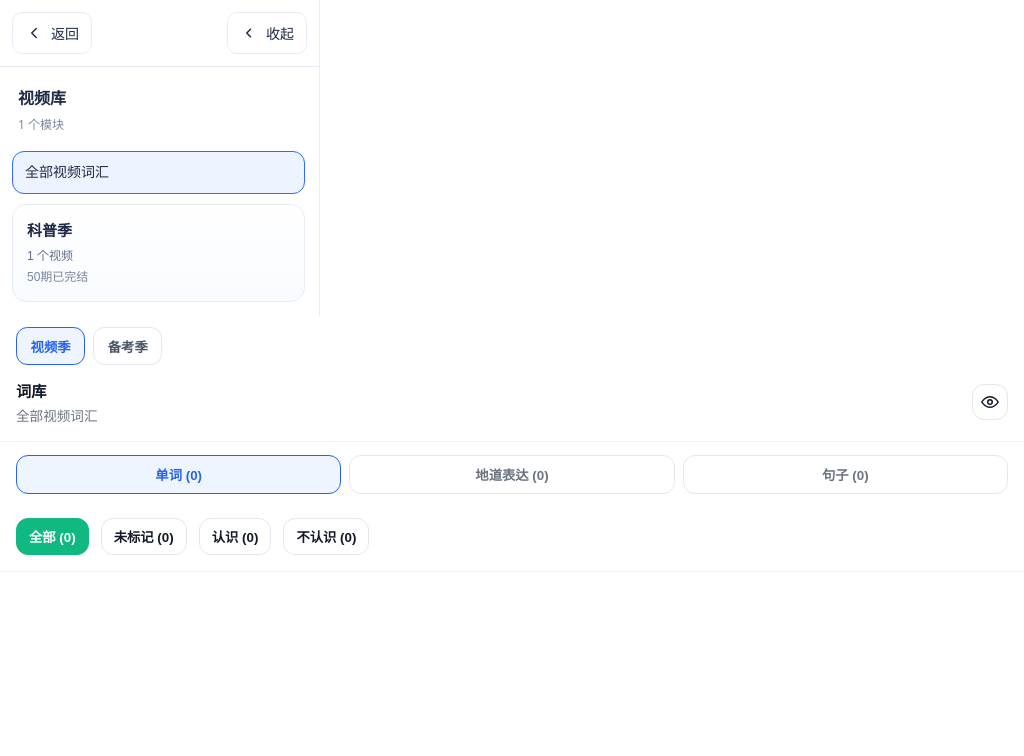
Scenario: LexiconPage sources › keeps matching video favorites independent from occurrences and can unfavorite them
The image size is (1024, 756).
Click the text "科普季".
click(50, 229)  # box [27,219,72,240]
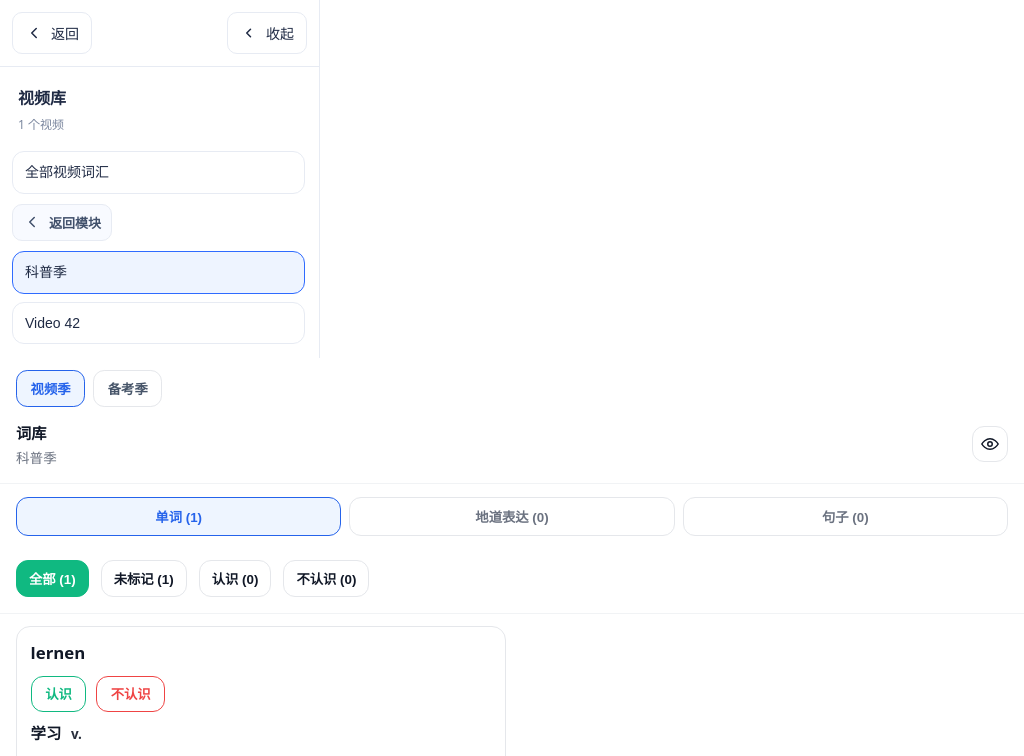
Click the list item "Video 42".
click(53, 323)  # box [12,302,305,344]
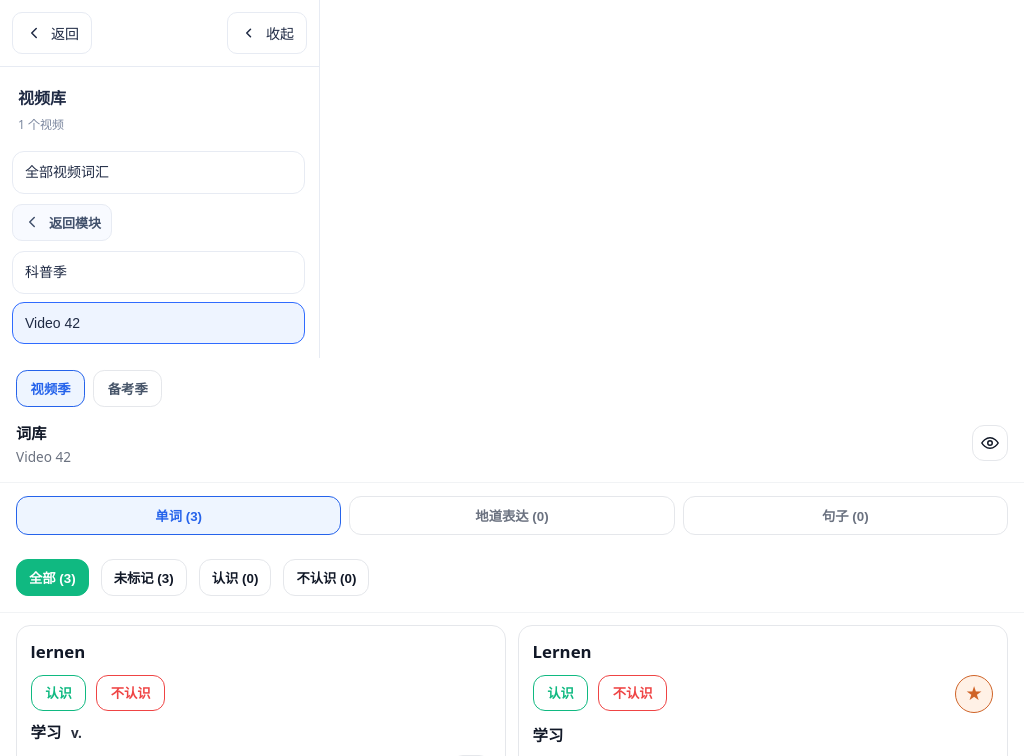
Check: the text "lernen" is shown, box [31,640,85,662]
Check: the number of buttons named "取消收藏" is 2
Check: the button named "取消收藏 Lernen" is shown
Click the button named "取消收藏 Lernen".
click(974, 694)  # box [955,674,993,713]
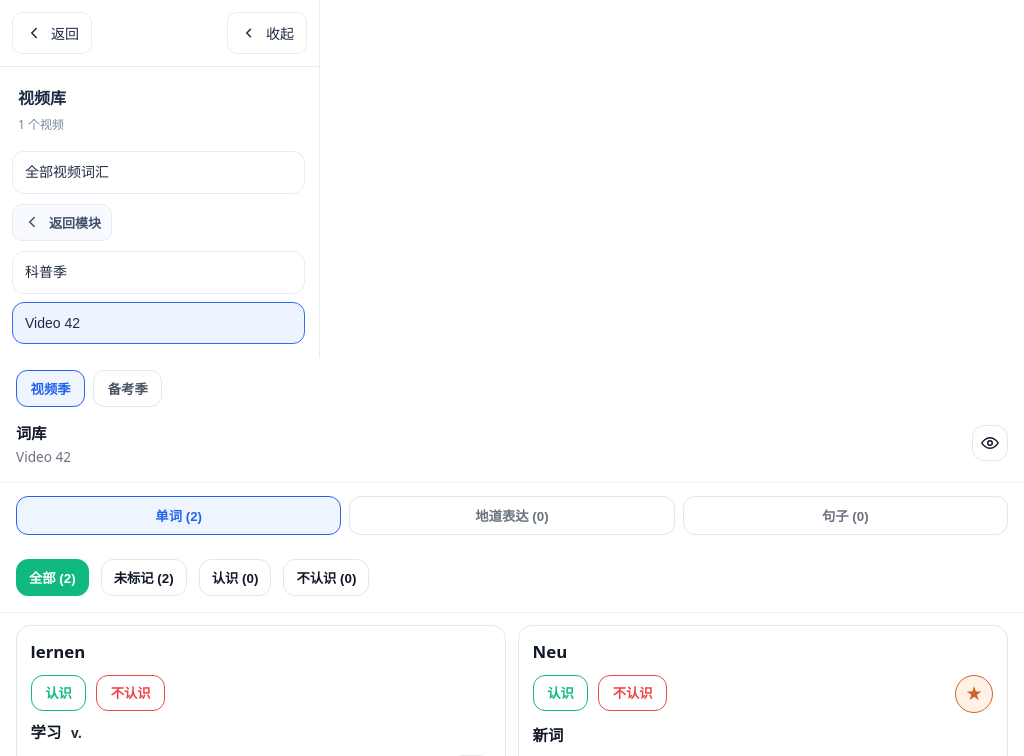
Check: the number of buttons "认识" is 2, box [31,674,86,710]; [533,674,588,710]
